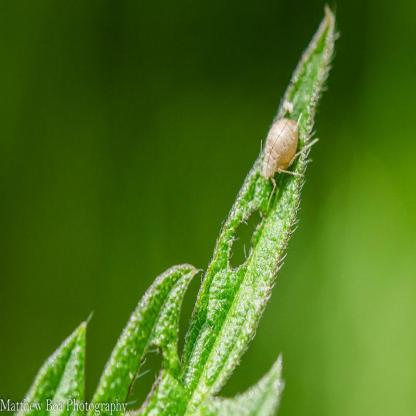aphid: (251, 103, 318, 221)
